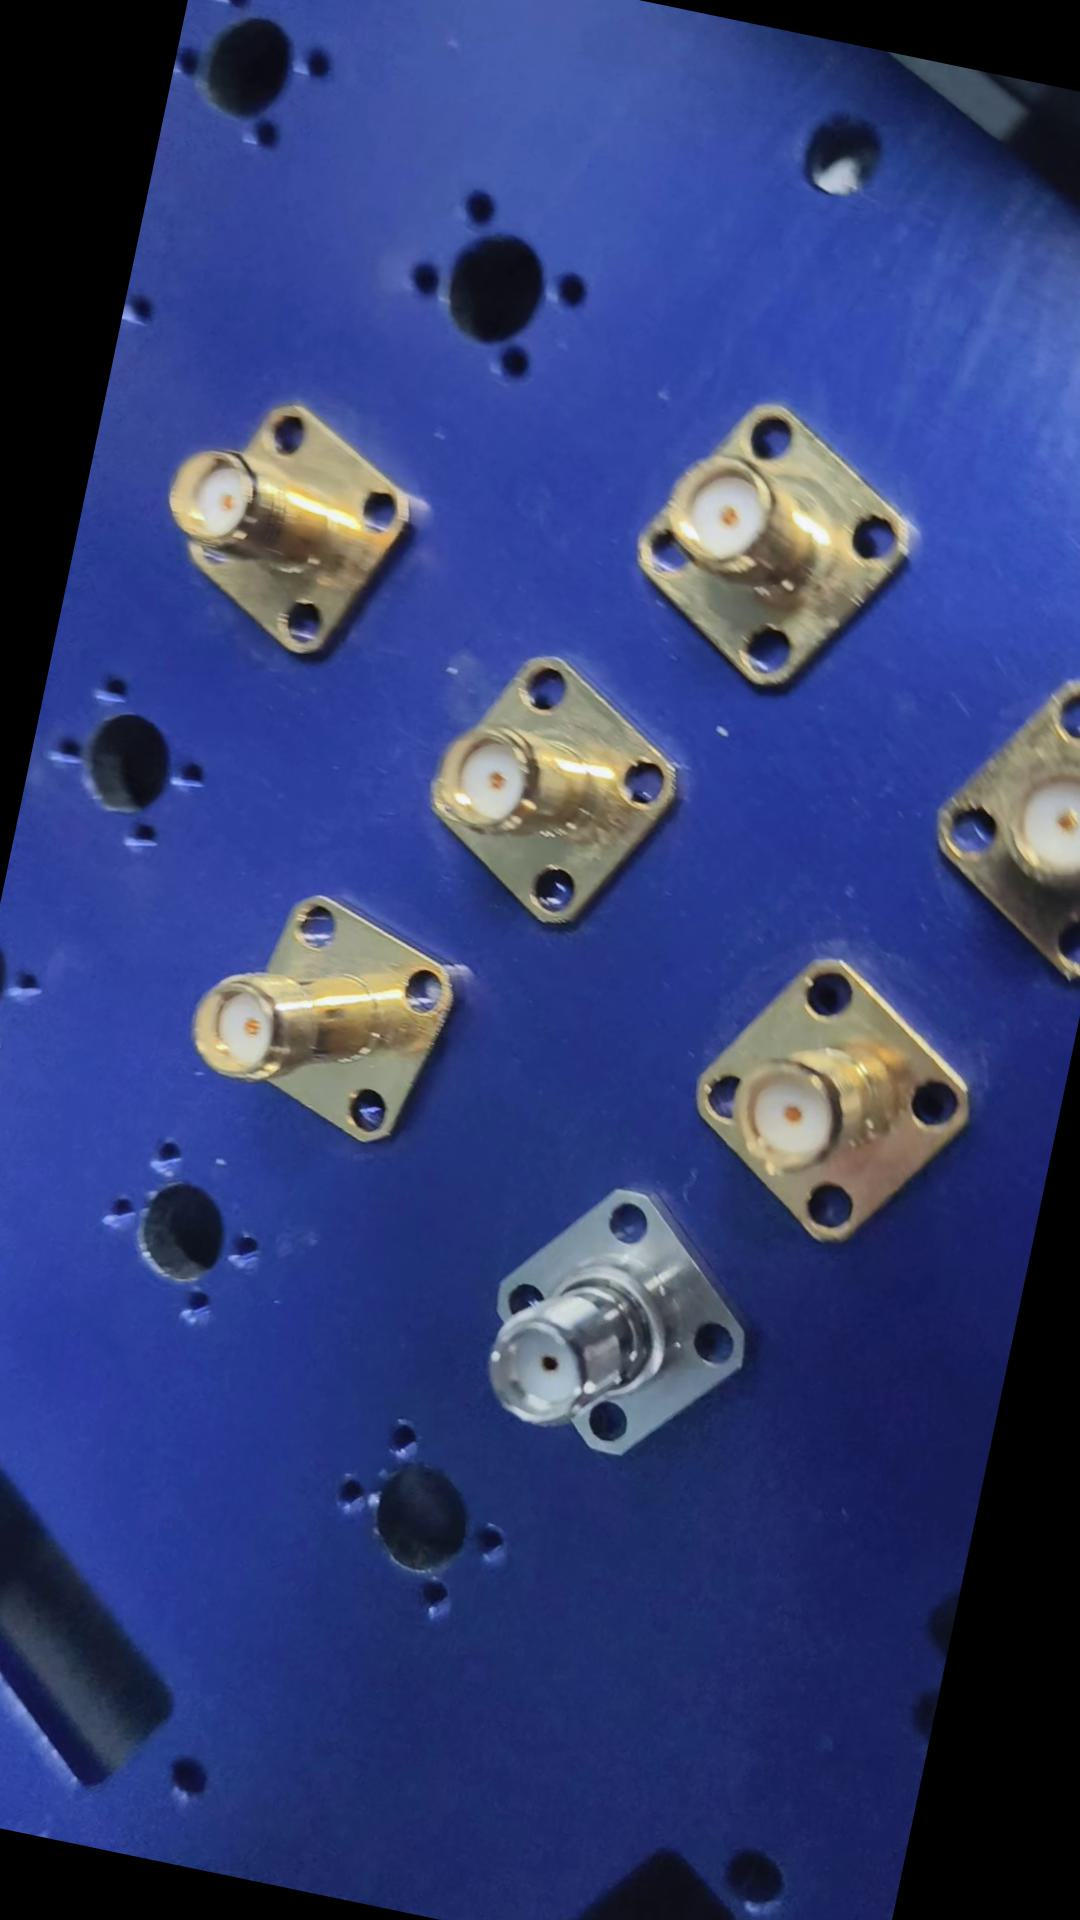SMA: (659, 919, 993, 1266), (454, 1149, 771, 1490), (613, 378, 924, 713), (398, 629, 687, 948), (140, 381, 434, 684), (166, 874, 469, 1162)
